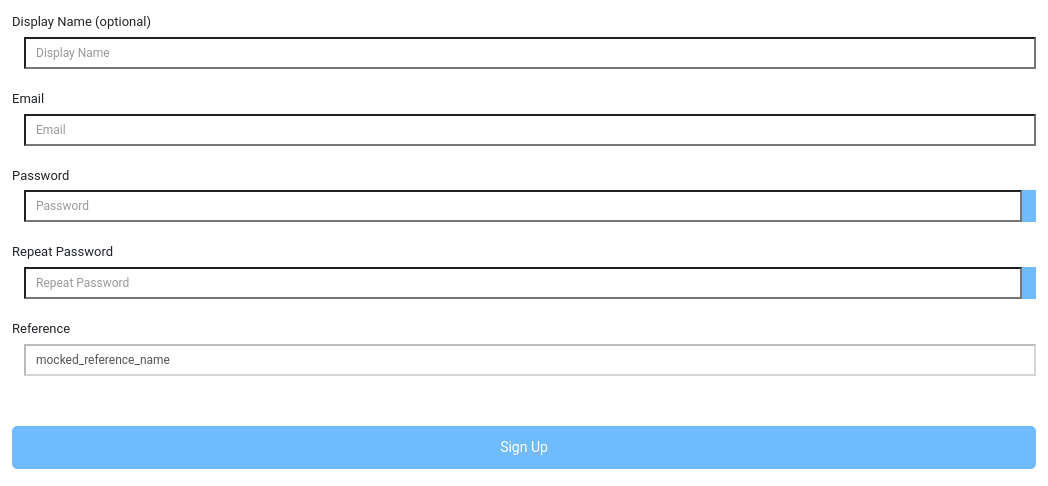
Test: Form validation › should render "This is a required field", because Repeat Password is missing
Type "John Doe" into the field with placeholder "Display Name" at (530, 53), box [24, 37, 1036, 69]
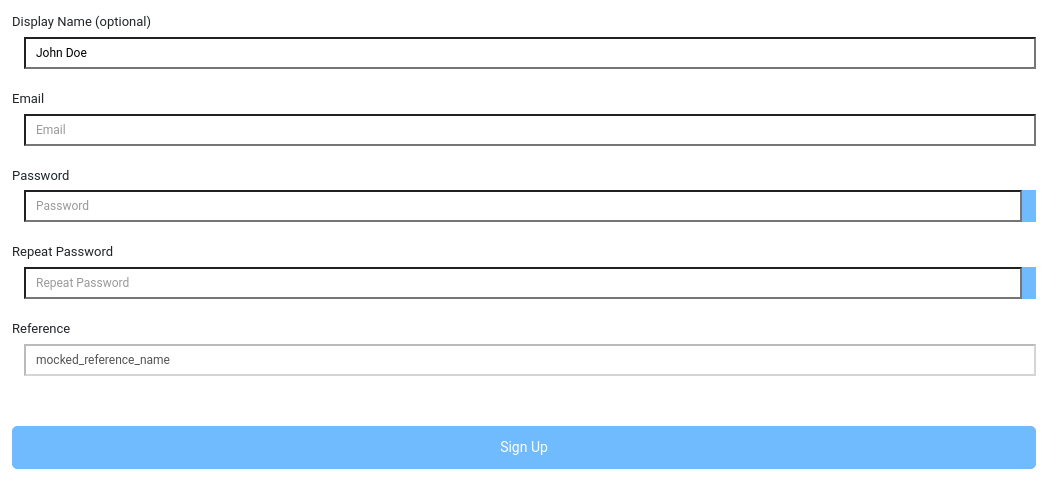
Type "john@example.com" into the field with placeholder "Email" at (530, 130), box [24, 114, 1036, 146]
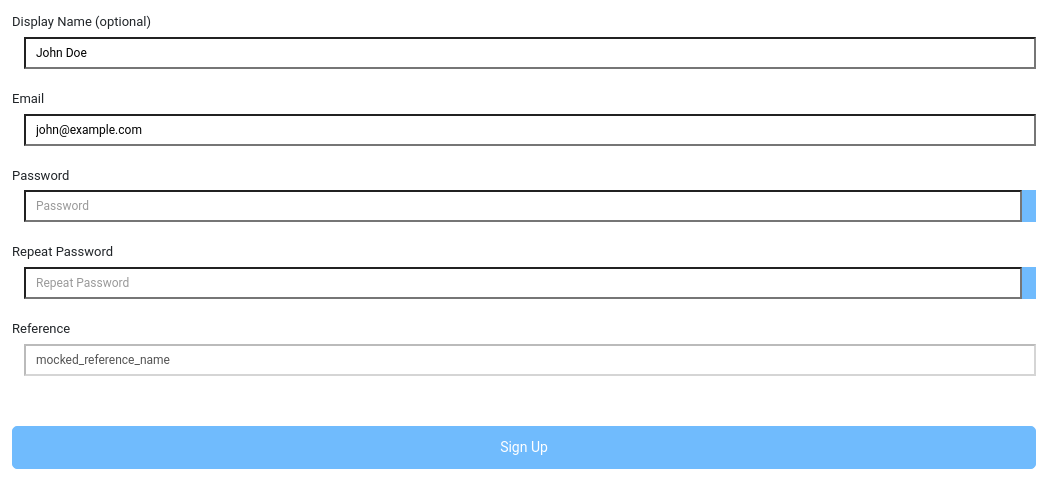
Type "password123!" into the password field with placeholder "Password" at (523, 206), box [24, 190, 1022, 222]
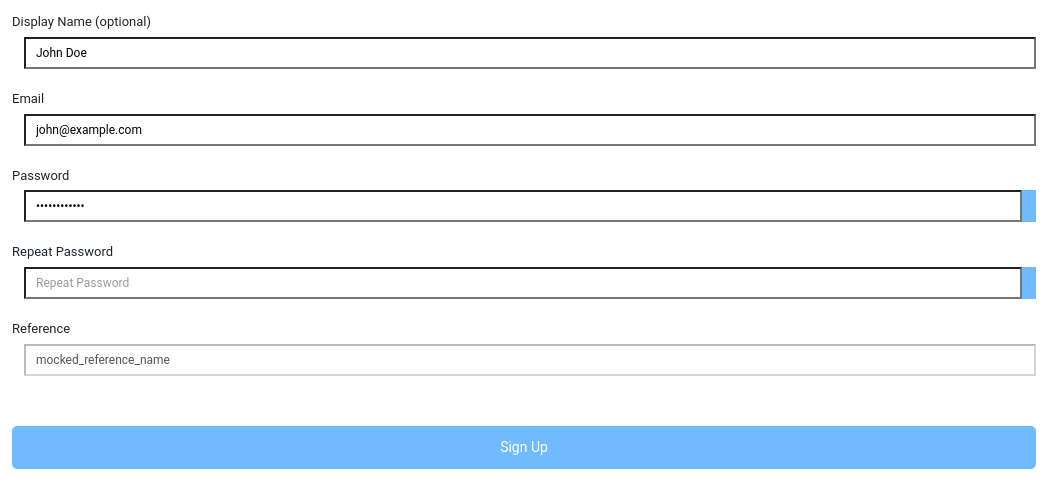
Replace the text in the field with placeholder "Reference" below "Reference" with "ref123" at (530, 360), box [24, 344, 1036, 376]
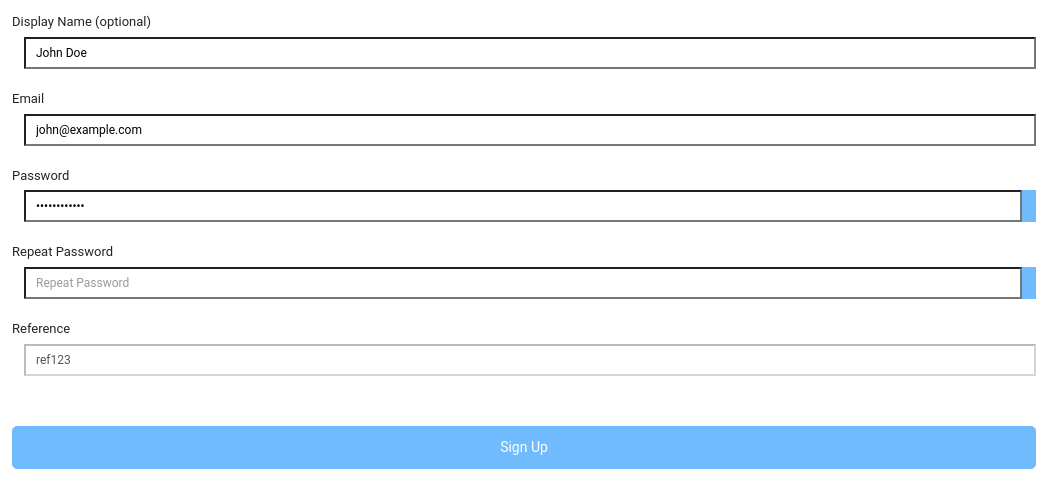
Click the button "Sign Up" at (524, 448), box [12, 426, 1036, 469]
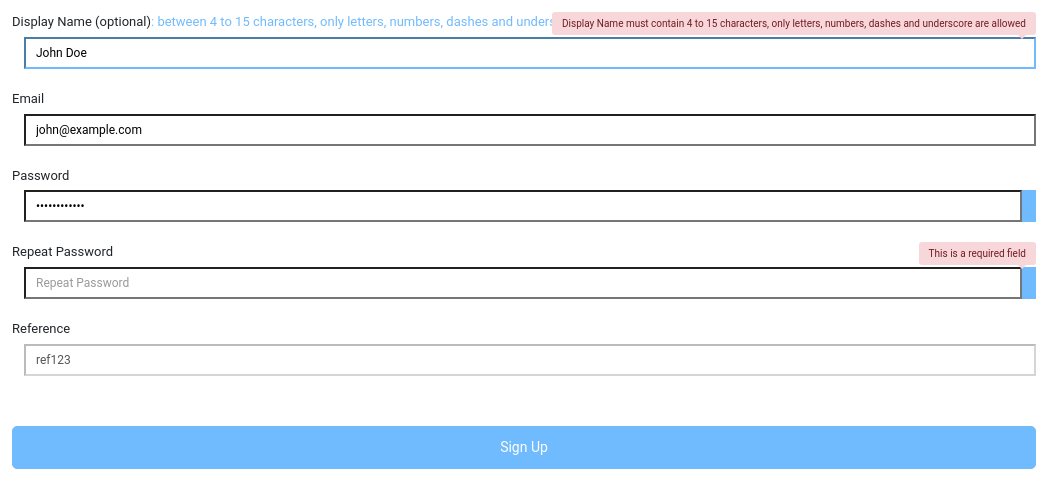
Result: the text "This is a required field" is shown at [919, 242, 1036, 265]
